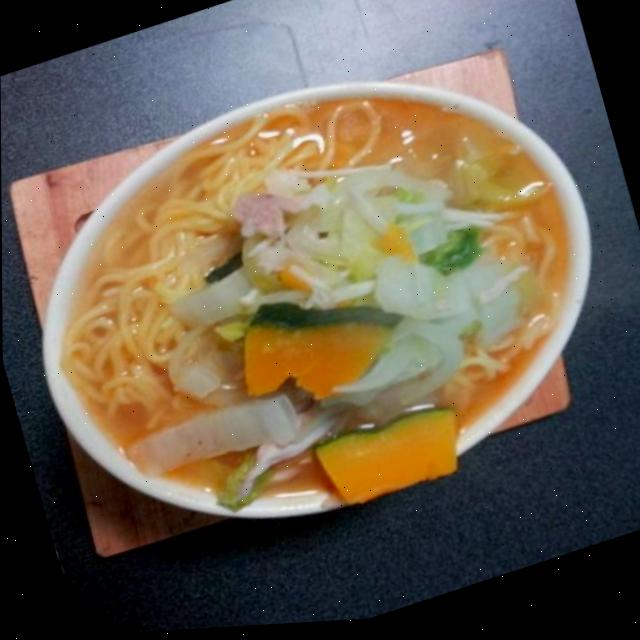面条主食: (0, 8, 640, 592)
